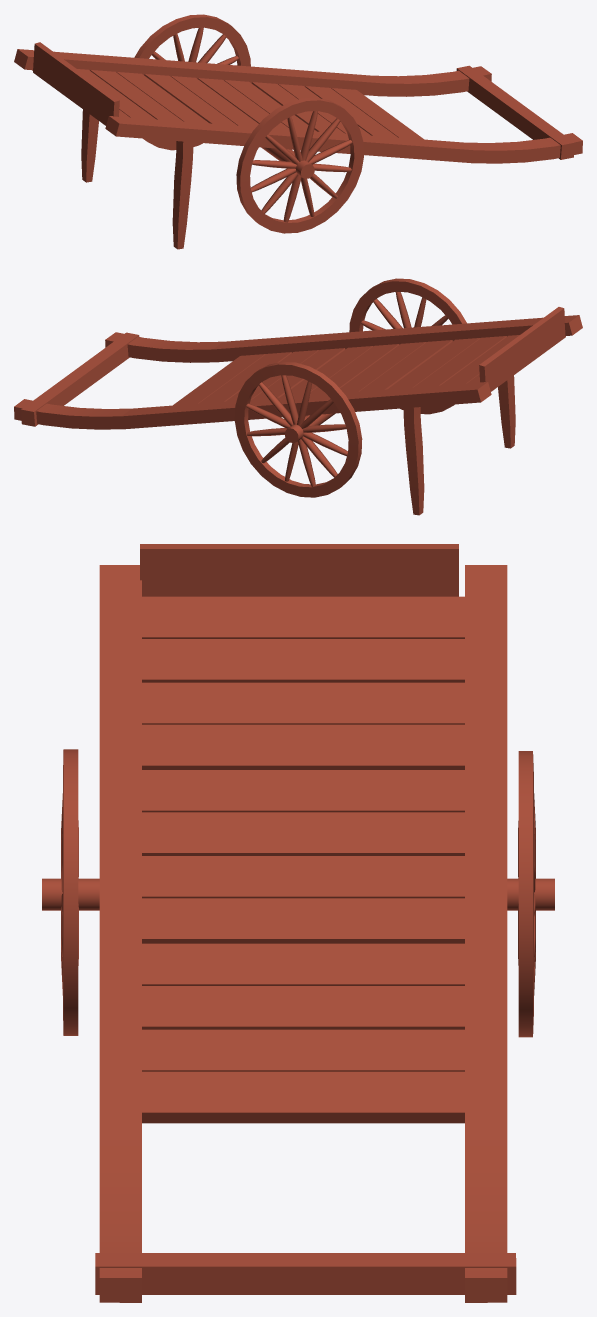
Rendered from SM_cart_tilted.fbx.
The picture shows the model from 3 angles, top to bottom: view 1: azimuth 30°, elevation 25°; view 2: azimuth 150°, elevation 25°; view 3: azimuth 270°, elevation 25°; orthographic projection. The views are drawn at different scales.
Visible parts, largest first — view 1: Object32450; view 2: Object32450; view 3: Object32450.
Boxes of the visible parts, x1,y1,x2,y2 form: Object32450: [14, 14, 582, 249]; Object32450: [14, 278, 582, 515]; Object32450: [42, 544, 554, 1302].
Size of the model in its own units: 159 by 51.29 by 75.74.
